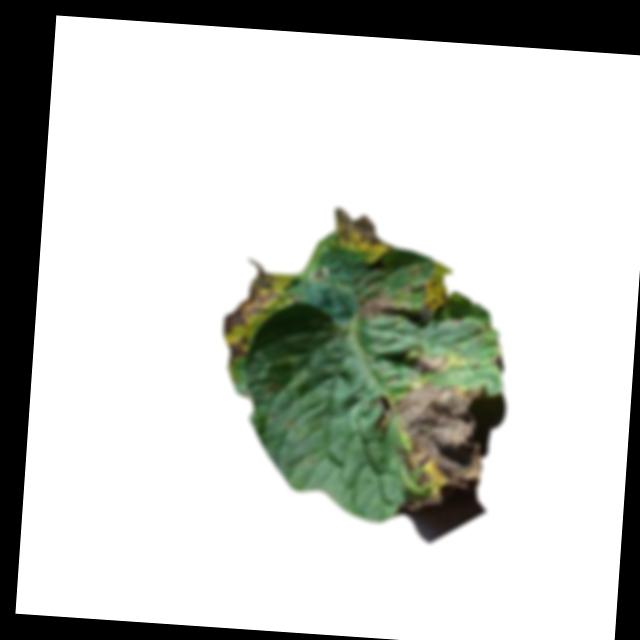Early_blight: (382, 379, 488, 517), (220, 269, 302, 364), (329, 205, 388, 259), (360, 288, 395, 323), (423, 271, 450, 312), (409, 353, 450, 375)
